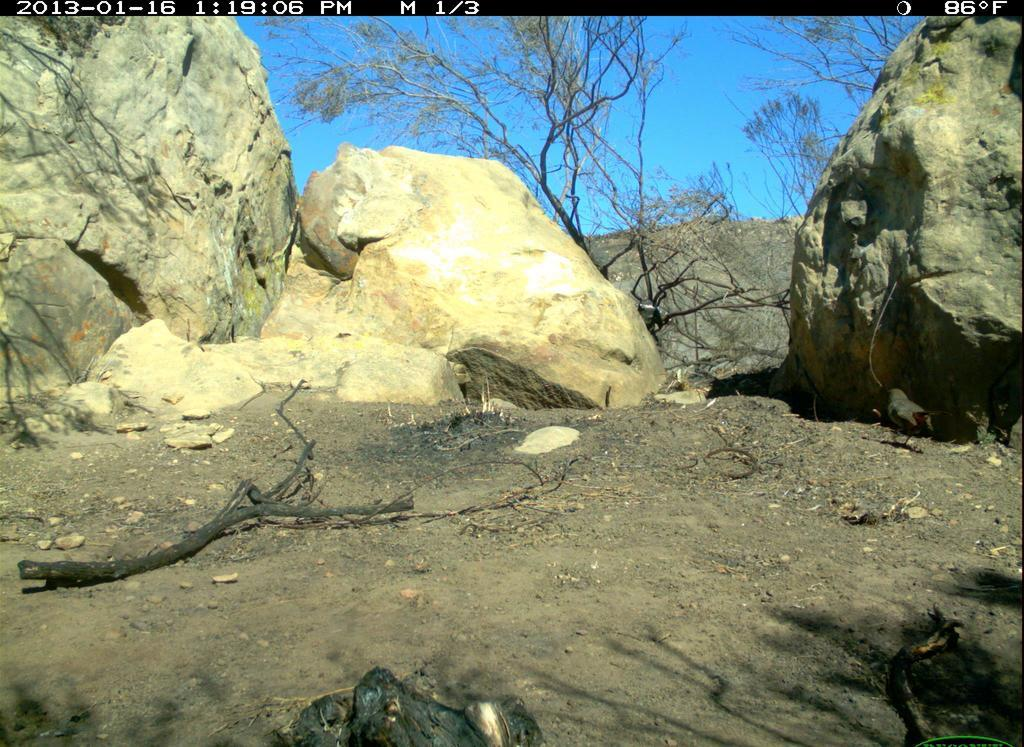bird: (875, 377, 945, 456)
